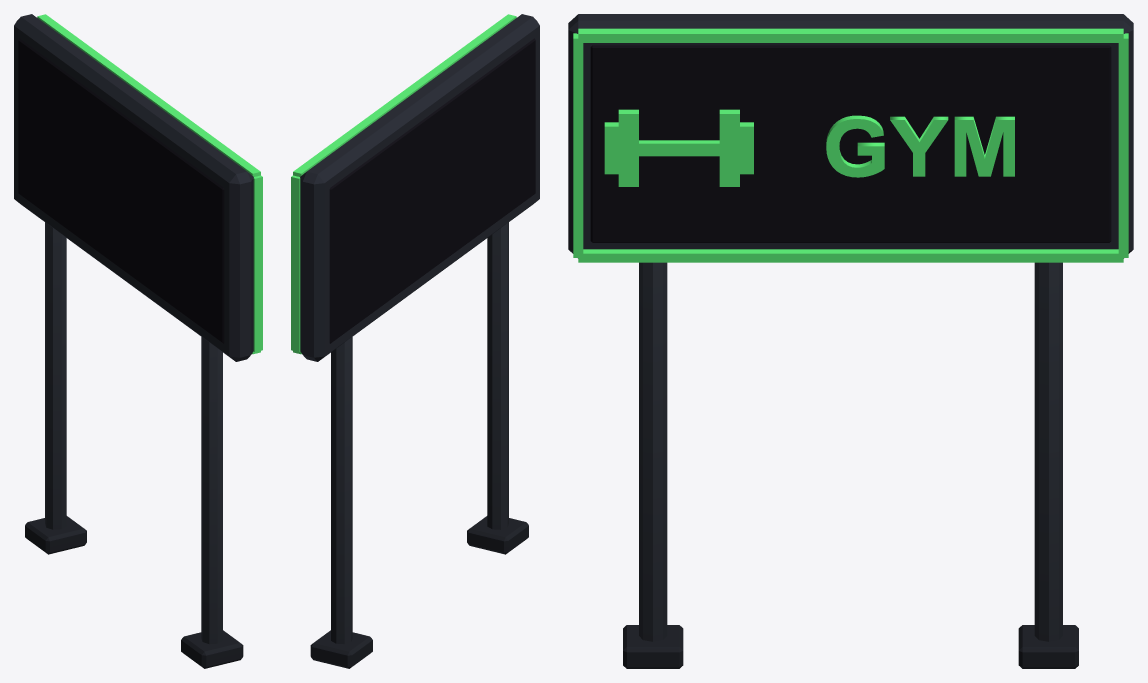
Rendered from sign_gym.glb.
3 renders of one model, left to right at view 1: azimuth 30°, elevation 25°; view 2: azimuth 150°, elevation 25°; view 3: azimuth 270°, elevation 25°, orthographic. The views are drawn at different scales.
Visible parts, largest first — view 1: Body, Glow; view 2: Body, Glow; view 3: Body, Glow.
Part boxes in pixels (<box>): Body: <box>14,14,253,668</box>; Glow: <box>37,14,262,354</box>; Body: <box>300,14,539,668</box>; Glow: <box>291,14,516,354</box>; Body: <box>568,14,1133,668</box>; Glow: <box>573,28,1128,262</box>.
Bounding box in the file's own units: 0.315 × 3.5 × 2.8.
